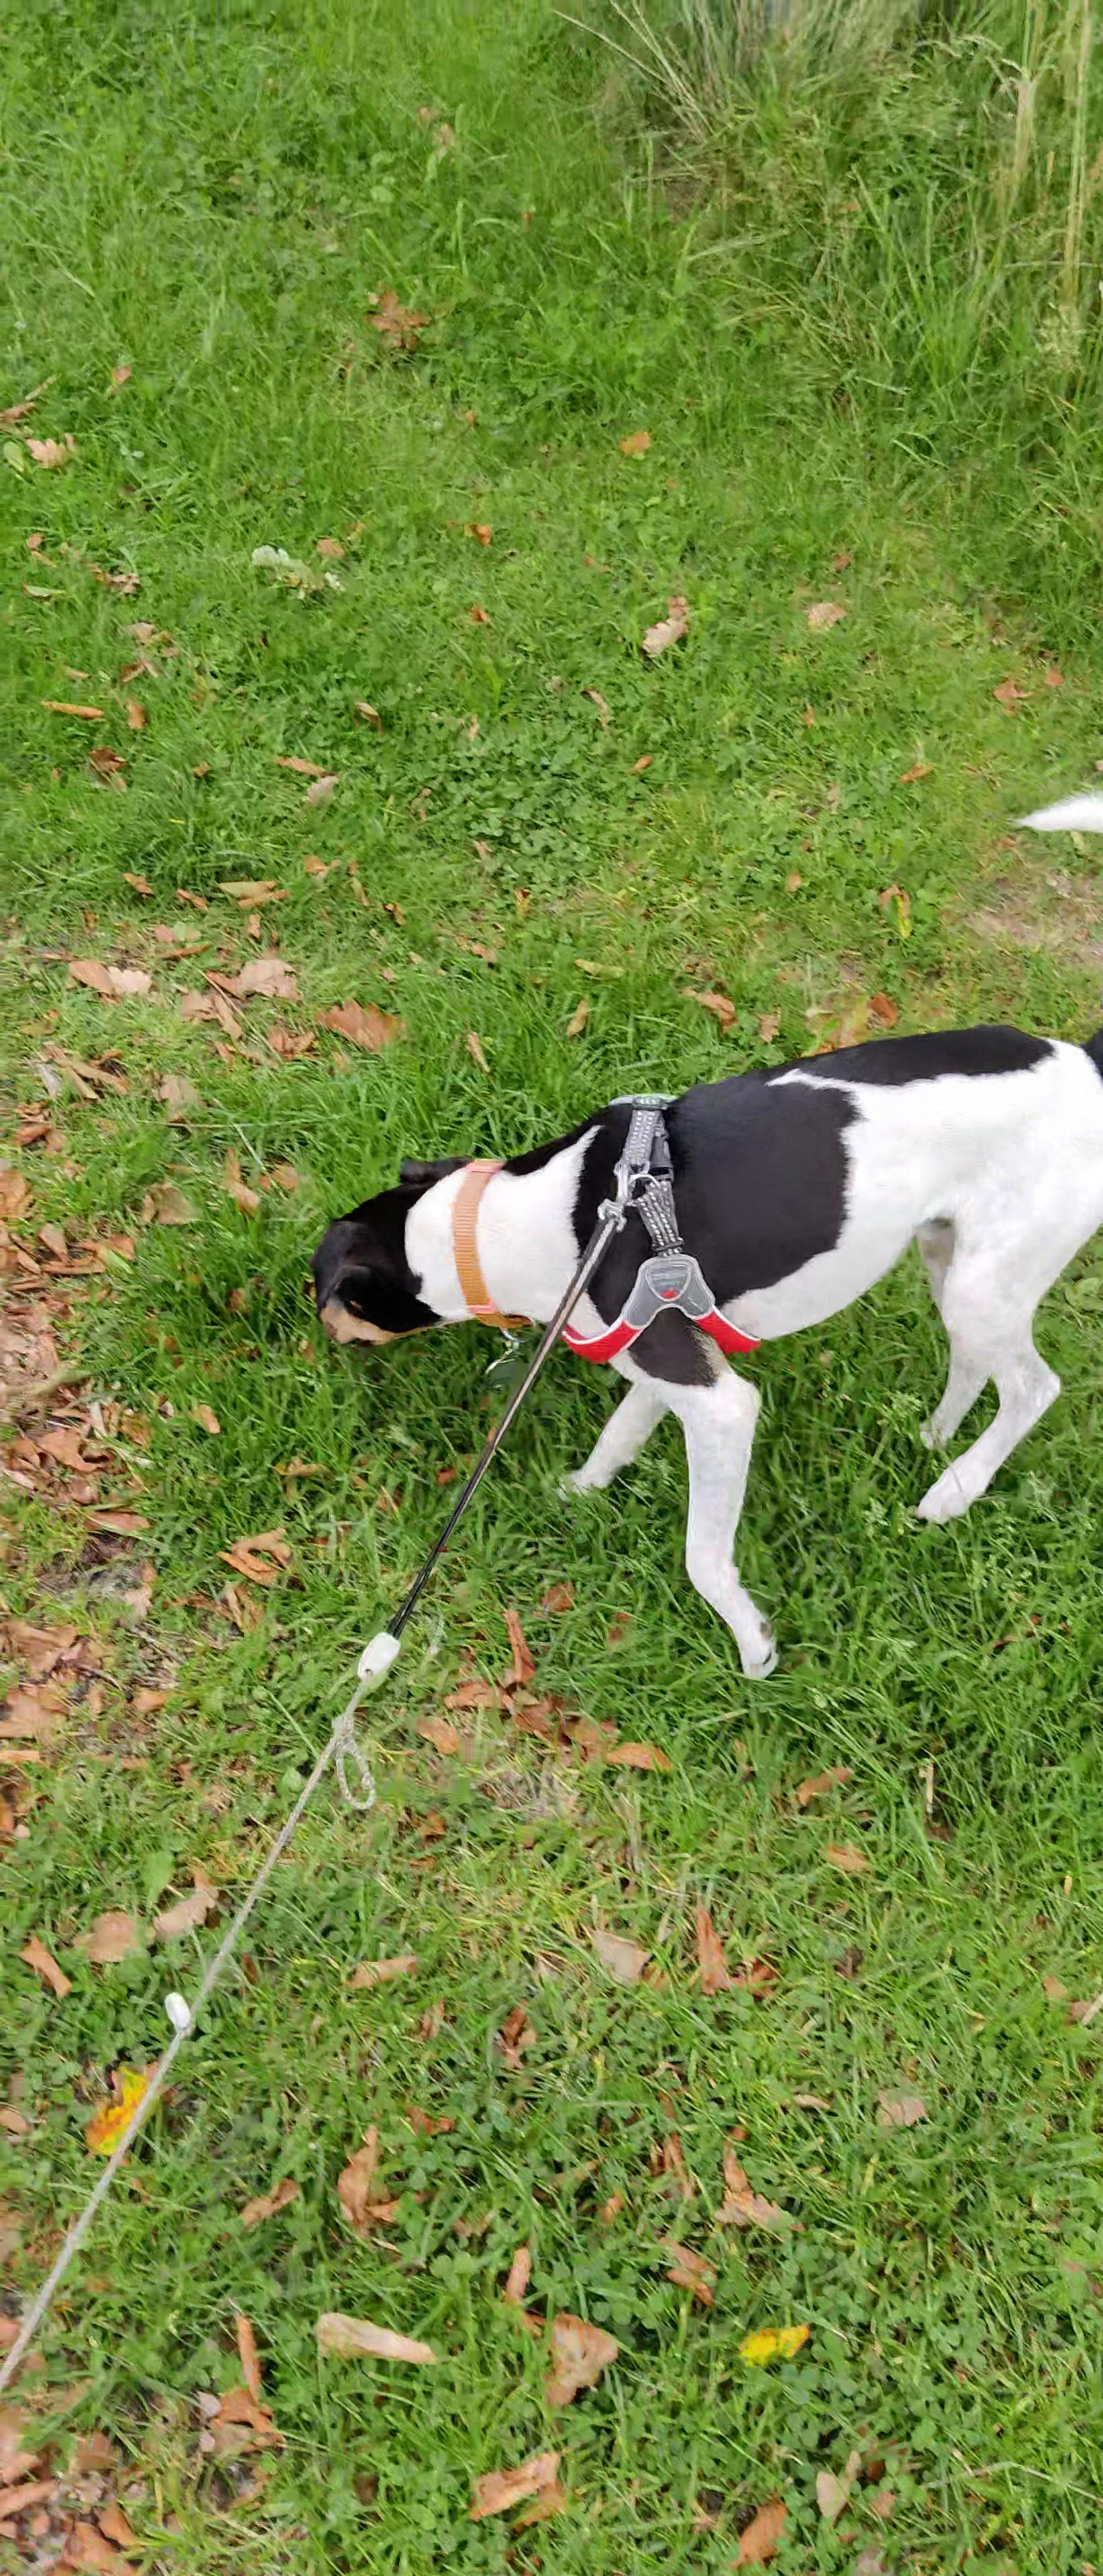Dog: (266, 762, 1103, 1694)
